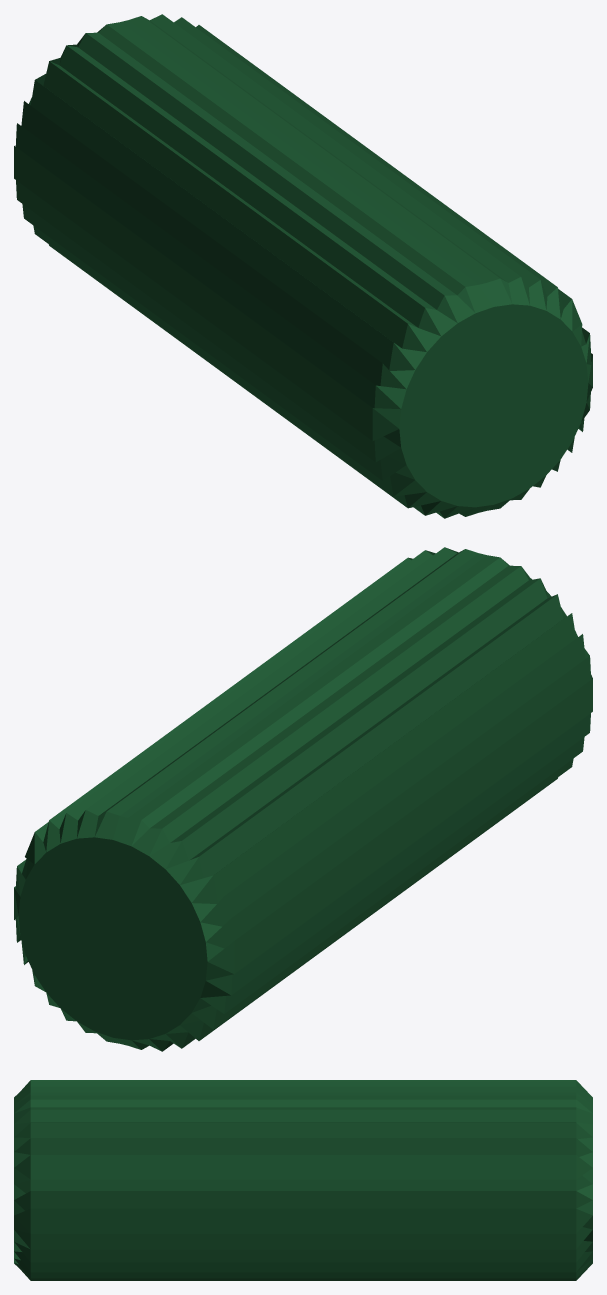
The picture shows the model from 3 angles, top to bottom: view 1: azimuth 30°, elevation 25°; view 2: azimuth 150°, elevation 25°; view 3: azimuth 270°, elevation 25°; orthographic projection. The views are drawn at different scales.
Parts seen in each view (by area): view 1: Cylinder; view 2: Cylinder; view 3: Cylinder.
Part boxes in pixels (x1=…): Cylinder: x1=14, y1=14, x2=592, y2=518; Cylinder: x1=14, y1=547, x2=592, y2=1051; Cylinder: x1=14, y1=1080, x2=592, y2=1280.
Size of the model in its own units: 100 by 100 by 300.
